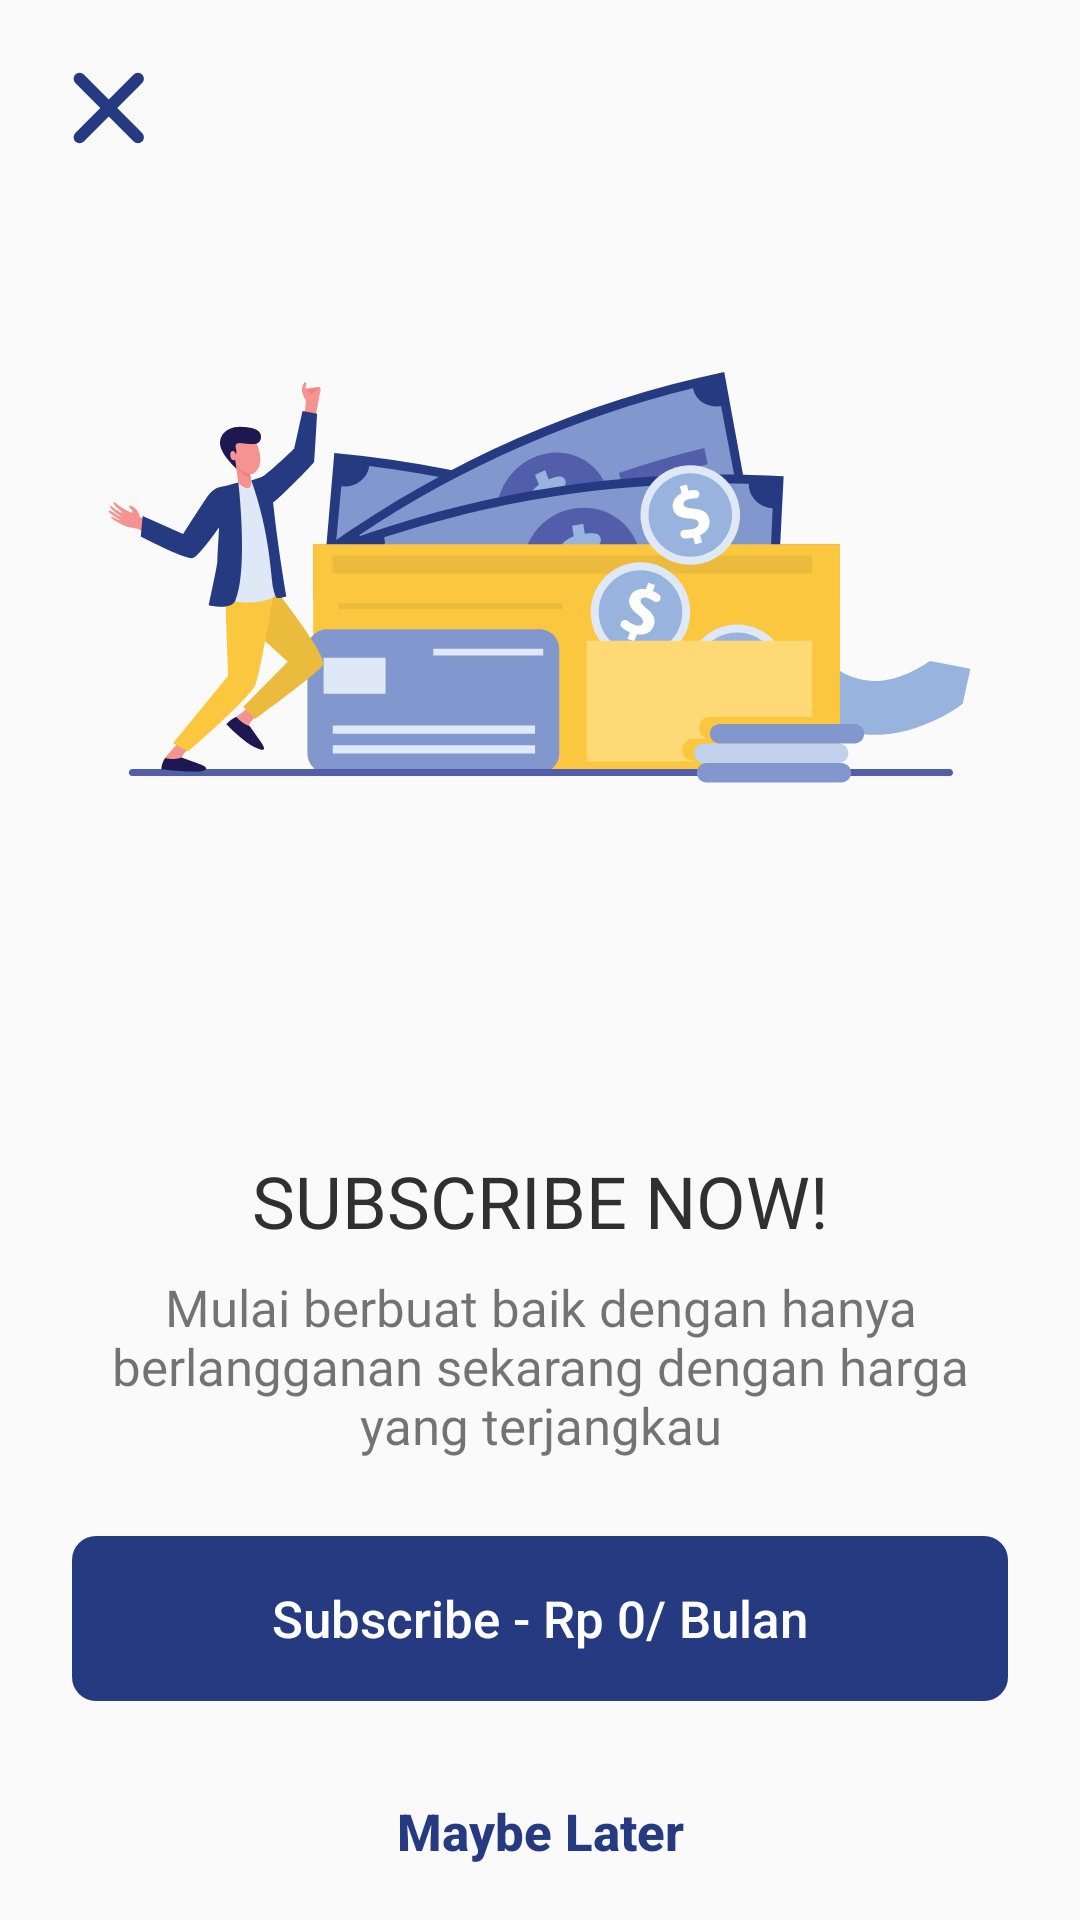

Named icons in this screenshot (1080x1920) and their centers, (x,y):
times: (108,108)
